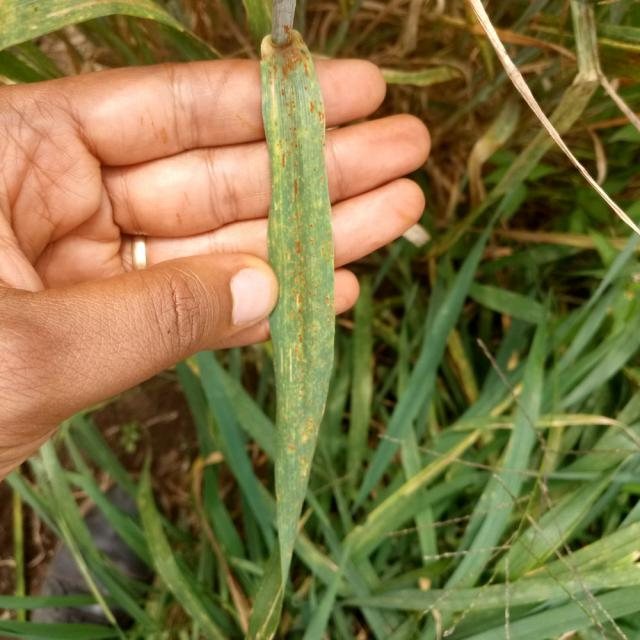wheat-stemrust: (258, 0, 335, 524)
